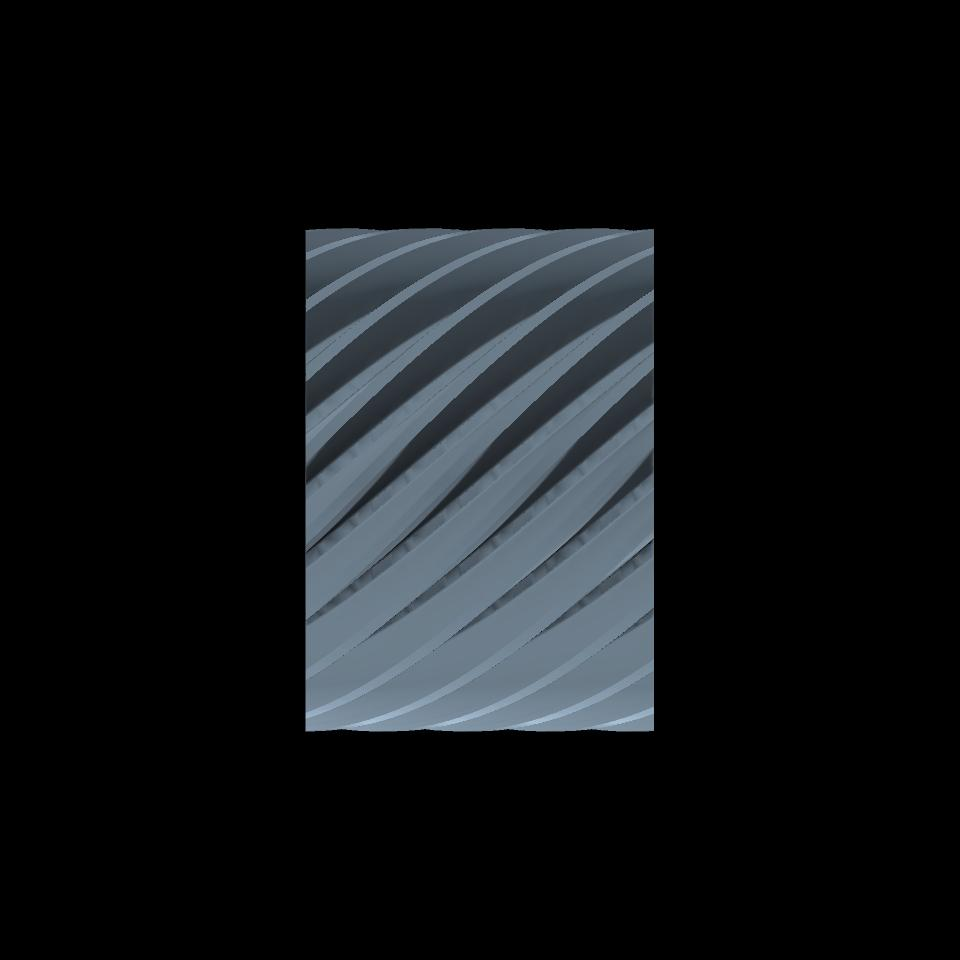Helical: (306, 229, 653, 729)
